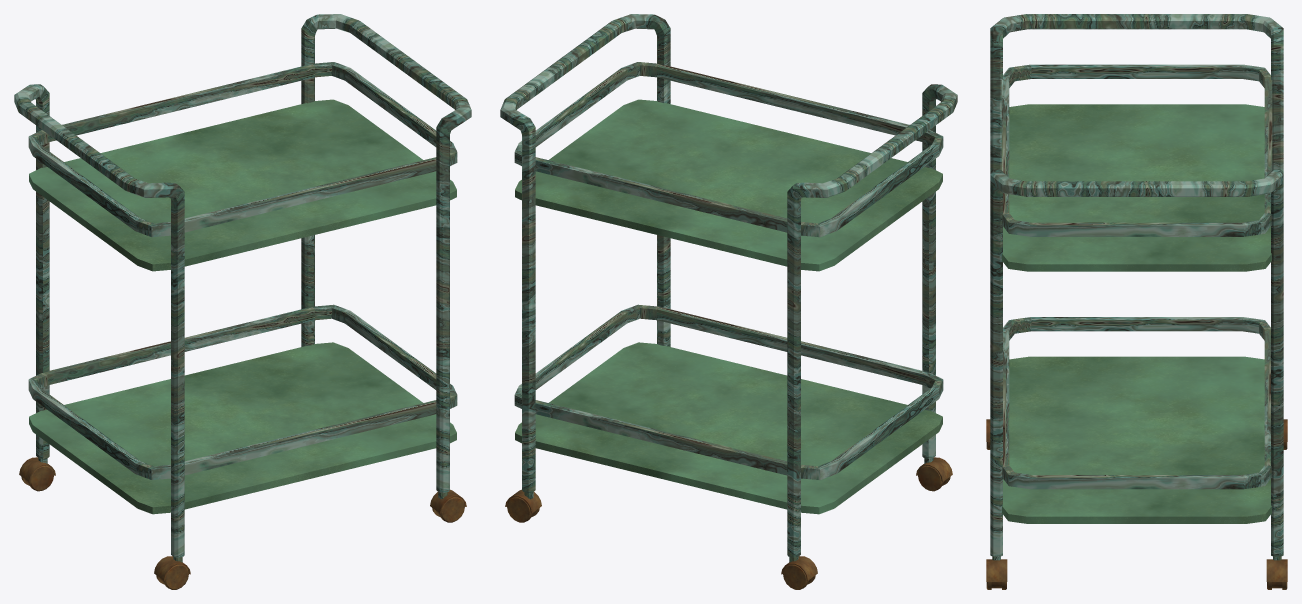
File: ServingCart.FBX
3 renders of one model, left to right at view 1: azimuth 30°, elevation 25°; view 2: azimuth 150°, elevation 25°; view 3: azimuth 270°, elevation 25°, orthographic. The views are drawn at different scales.
Visible parts, largest first — view 1: Cylinder013; view 2: Cylinder013; view 3: Cylinder013.
Part boxes in pixels (<box>): Cylinder013: <box>14,14,471,589</box>; Cylinder013: <box>500,14,957,589</box>; Cylinder013: <box>986,14,1287,589</box>.
Size of the model in its own units: 75.96 by 85.5 by 55.68.
